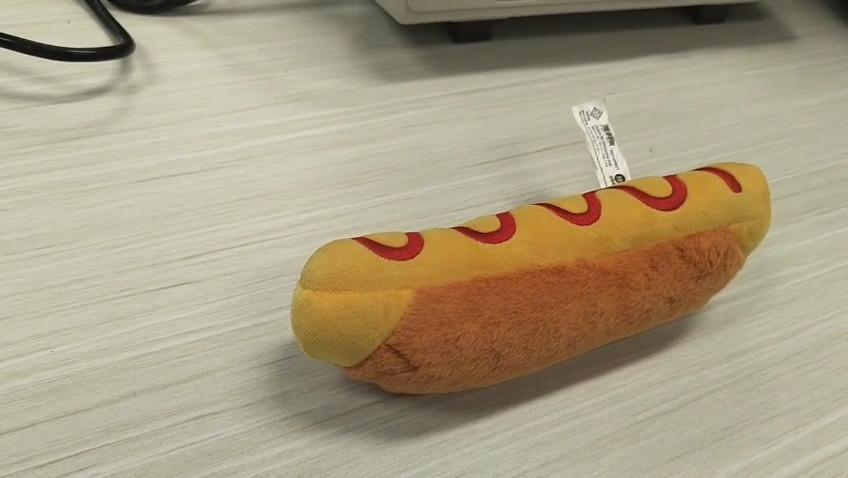hotdog: (289, 159, 772, 396)
